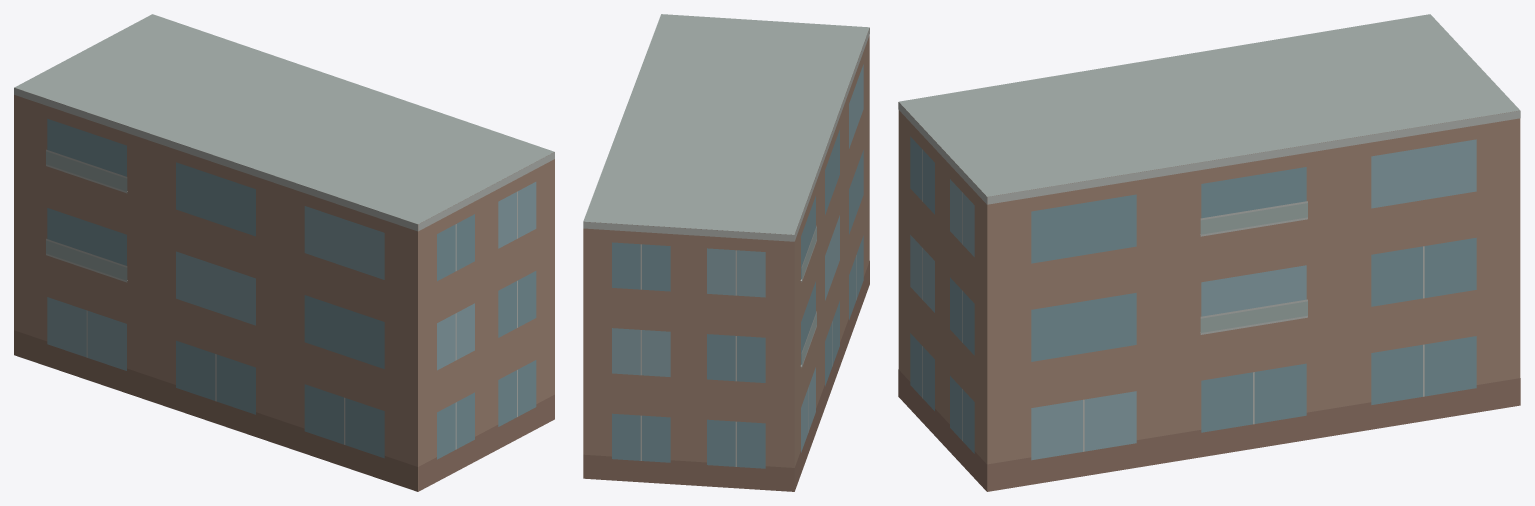
File: survey-upis-32947148.glb
3 views of the same model, side by side, from view 1: azimuth 30°, elevation 25°; view 2: azimuth 150°, elevation 25°; view 3: azimuth 270°, elevation 25° (orthographic). The views are drawn at different scales.
Parts seen in each view (by area): view 1: survey-upis-32947148.tmp; view 2: survey-upis-32947148.tmp; view 3: survey-upis-32947148.tmp.
Part boxes in pixels (<box>): survey-upis-32947148.tmp: <box>14,14,554,491</box>; survey-upis-32947148.tmp: <box>583,14,869,491</box>; survey-upis-32947148.tmp: <box>898,14,1520,491</box>.
Size of the model in its own units: 12.17 by 9.15 by 17.49.
